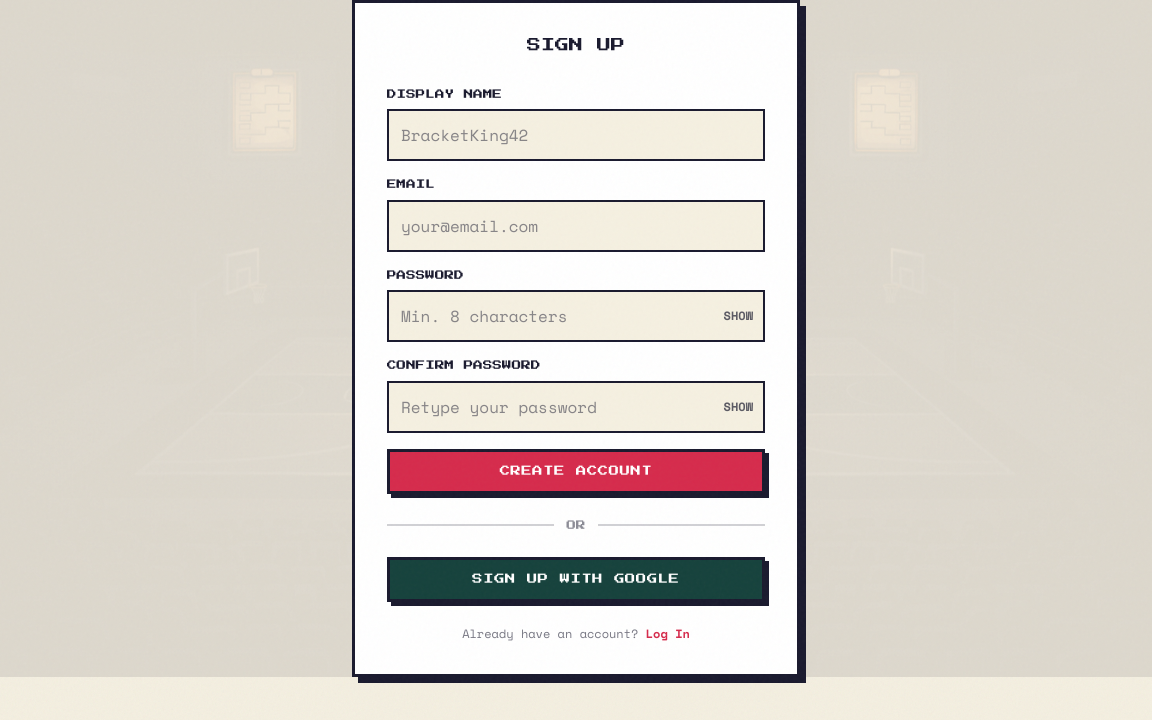
Scenario: SignupForm › shows error when password is shorter than 8 characters
Type "TestUser" into the field with placeholder "BracketKing42" at (576, 135), box left=387, top=109, right=765, bottom=161
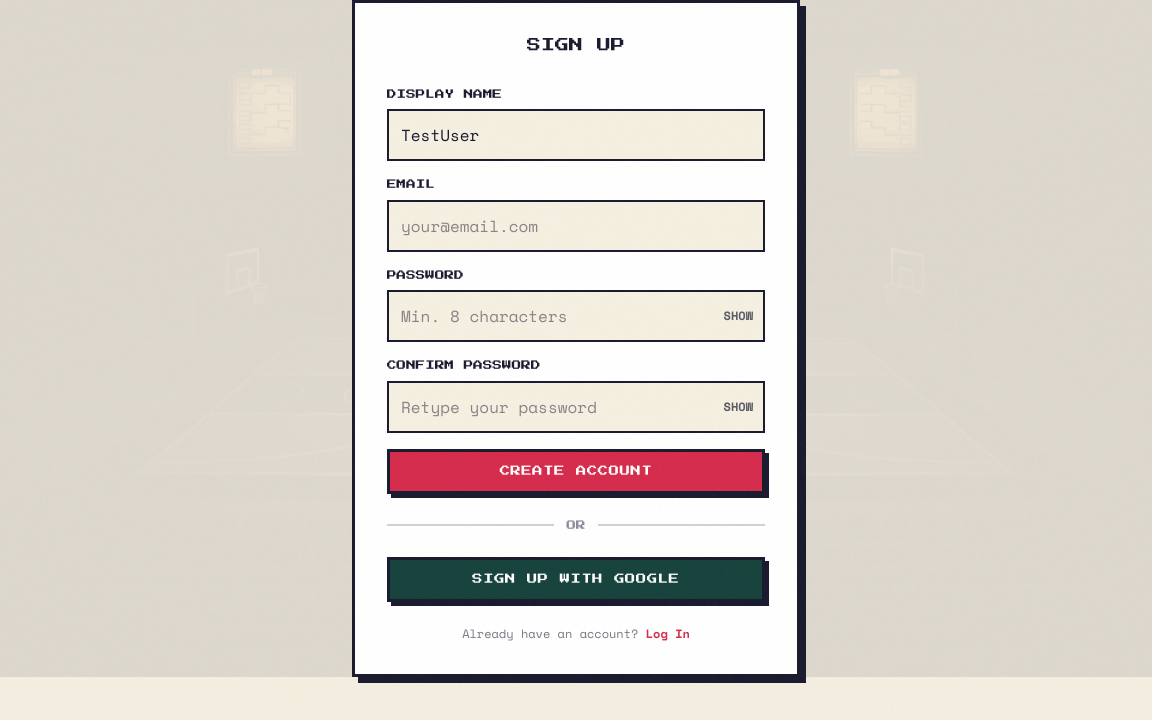
Type "test@example.com" into the field with placeholder "your@email.com" at (576, 226), box left=387, top=200, right=765, bottom=252
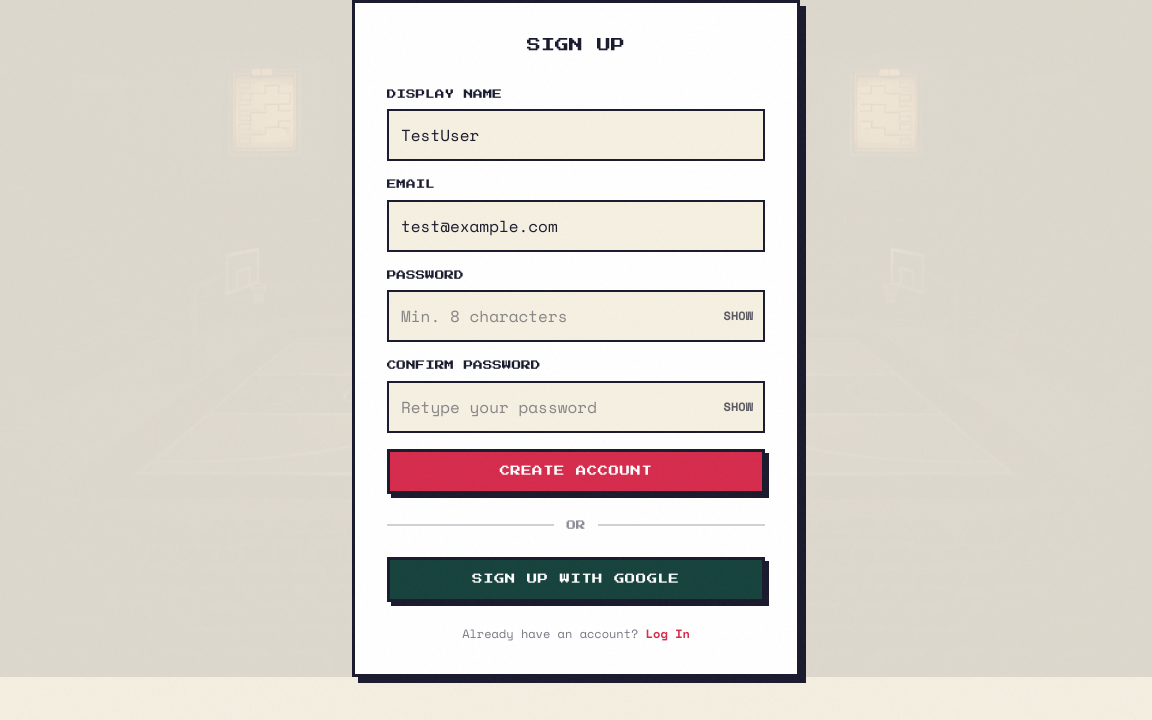
Type "short" into the password field with placeholder "Min. 8 characters" at (576, 316), box left=387, top=290, right=765, bottom=342
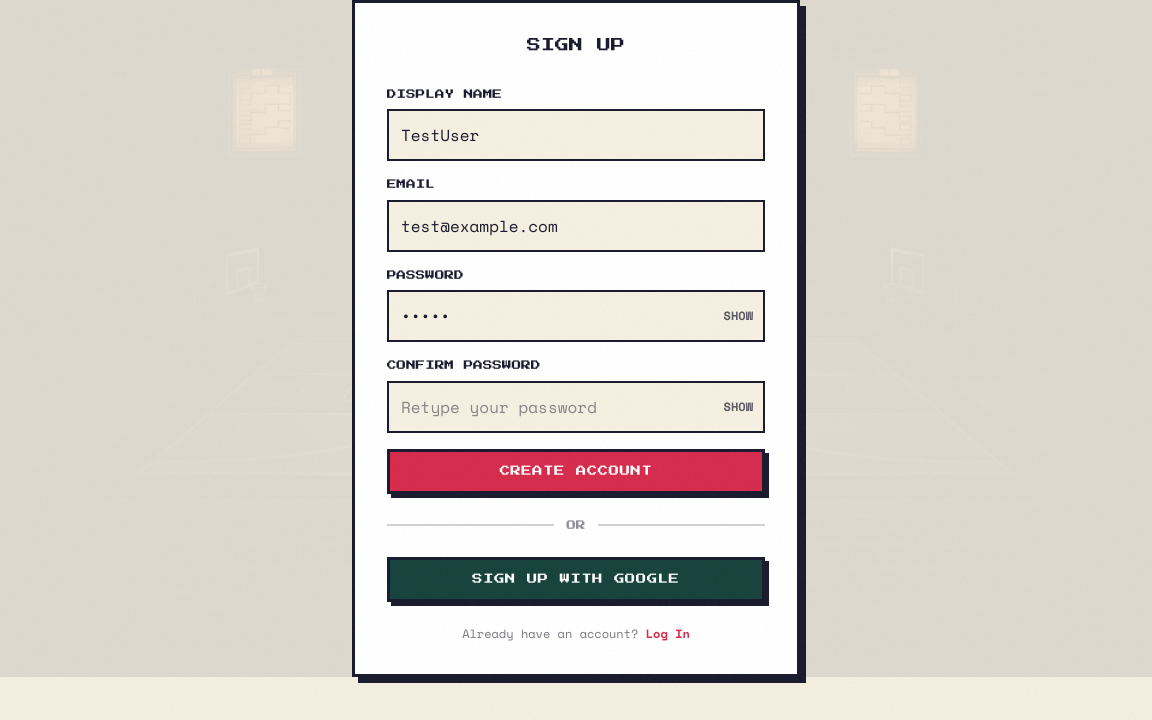
Type "short" into the password field with placeholder "Retype your password" at (576, 407), box left=387, top=381, right=765, bottom=433
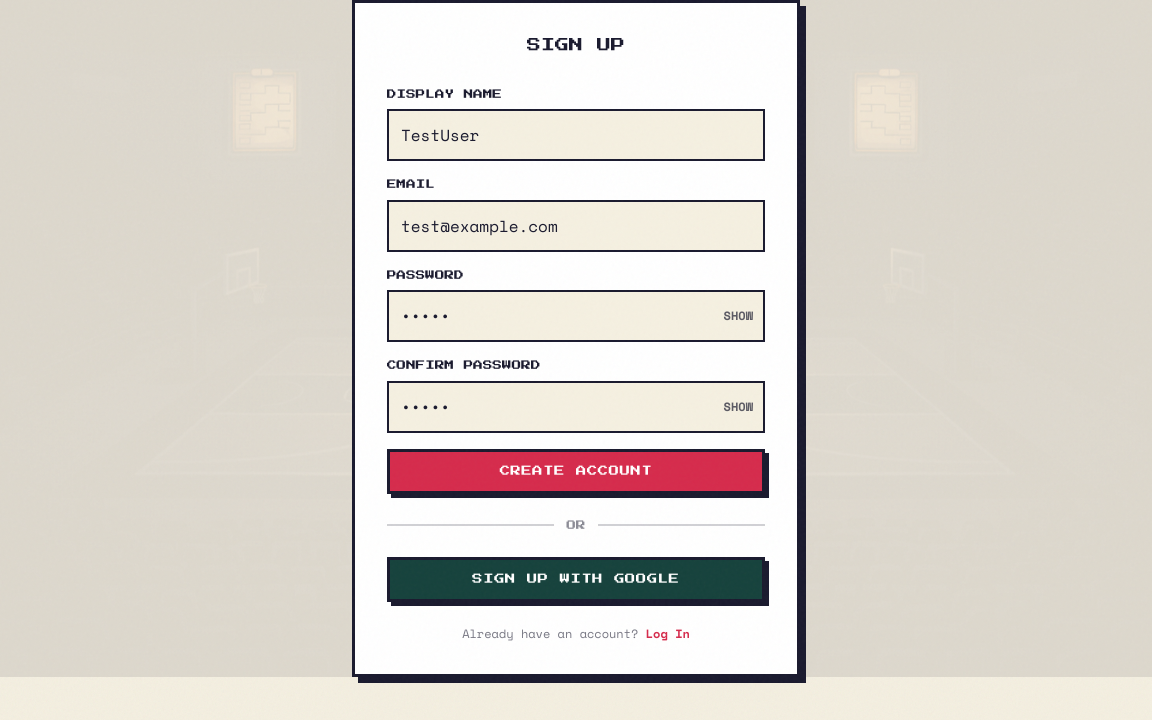
Click the button "Create Account" at (576, 471), box left=387, top=449, right=765, bottom=494
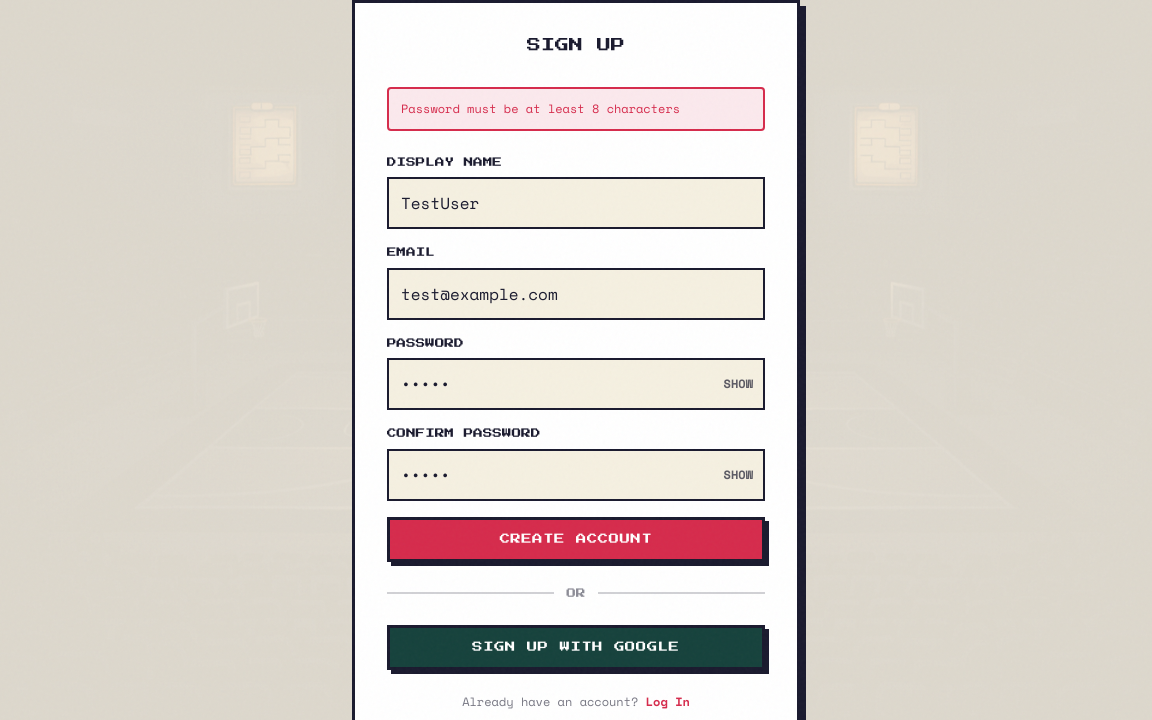
expect the message reads "Password must be at least 8 characters": met, box left=401, top=100, right=680, bottom=117
